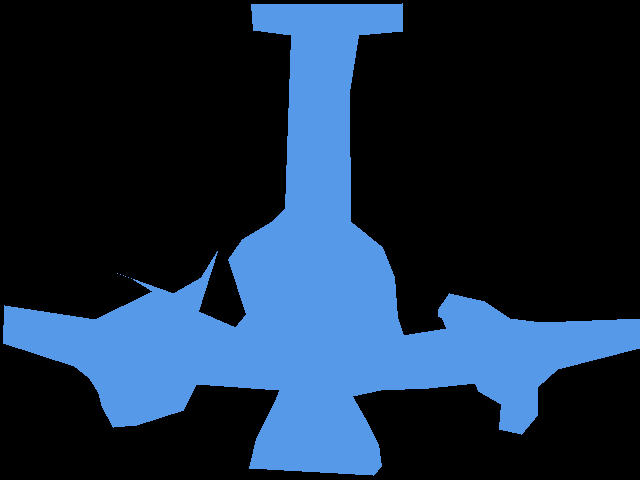Airplane: (3, 3, 640, 476)
